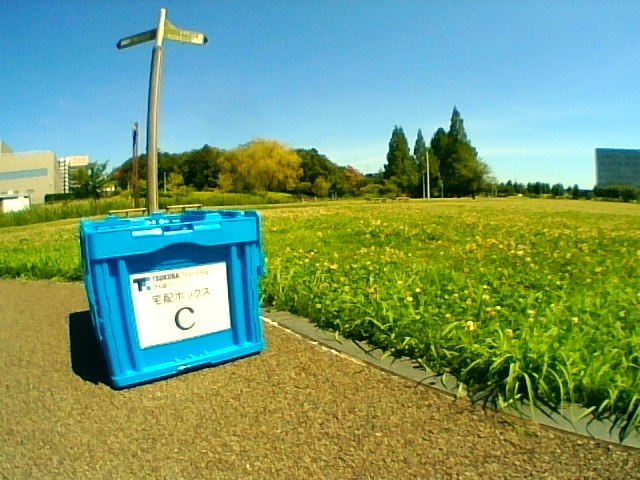blue_box: (114, 219, 248, 357)
tag_c: (148, 279, 213, 333)
